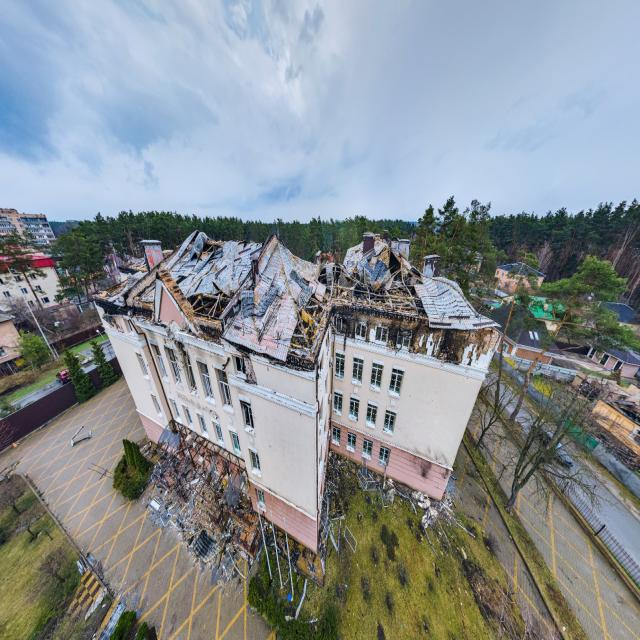broken_window: (388, 366, 404, 398), (240, 398, 254, 433), (370, 361, 384, 392), (248, 447, 261, 477), (382, 409, 397, 435), (365, 401, 378, 429), (352, 356, 364, 386), (334, 350, 345, 379), (348, 395, 359, 422), (332, 391, 342, 416)
building: (91, 226, 501, 556)
damaged_roof: (92, 227, 500, 377)
